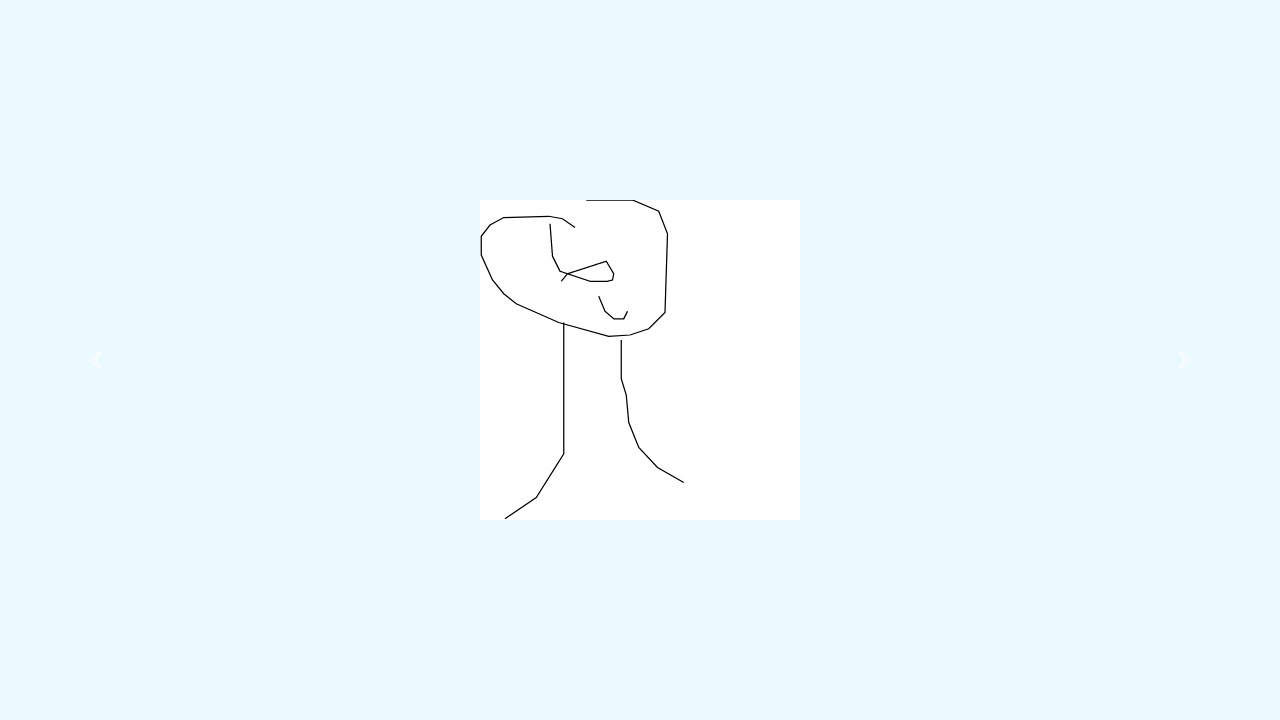tree: (474, 194, 696, 526)
